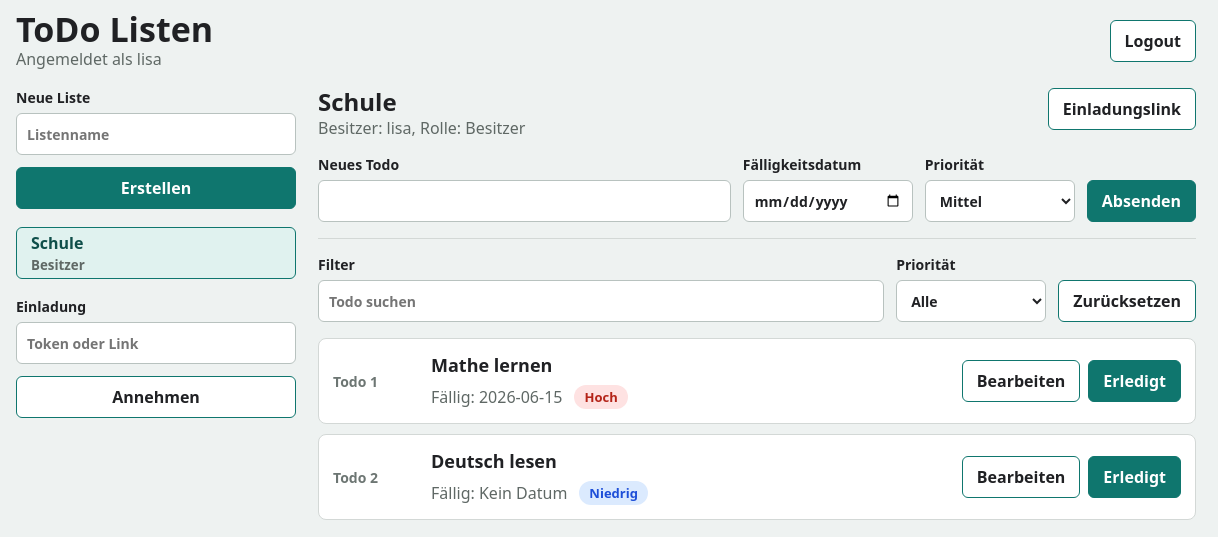
Test: App › filtert geladene Todos nach Priorität
Expected: the text "Mathe lernen" is shown, [431, 353, 552, 377]
Expected: the text "Deutsch lesen" is shown, [431, 449, 557, 473]
Select "Hoch" in the 2nd dropdown labelled "Priorität" at x=971, y=301, box [896, 280, 1046, 322]
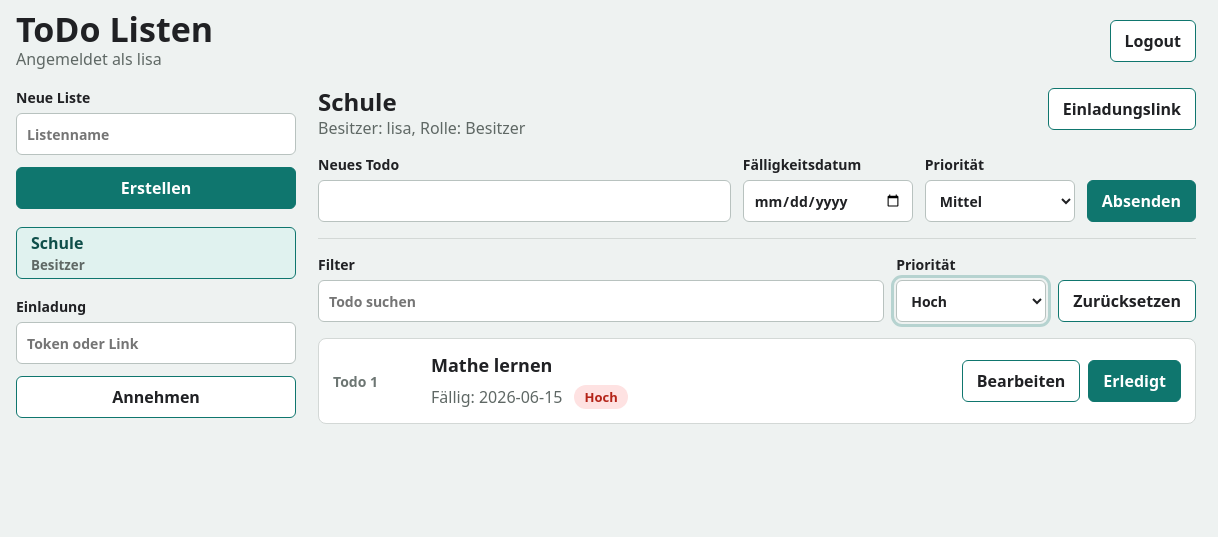
Expected: the text "Mathe lernen" is shown, [431, 353, 552, 377]
Now the text "Deutsch lesen" is gone
Click the button "Zurücksetzen" at x=1127, y=301, box [1058, 280, 1196, 322]
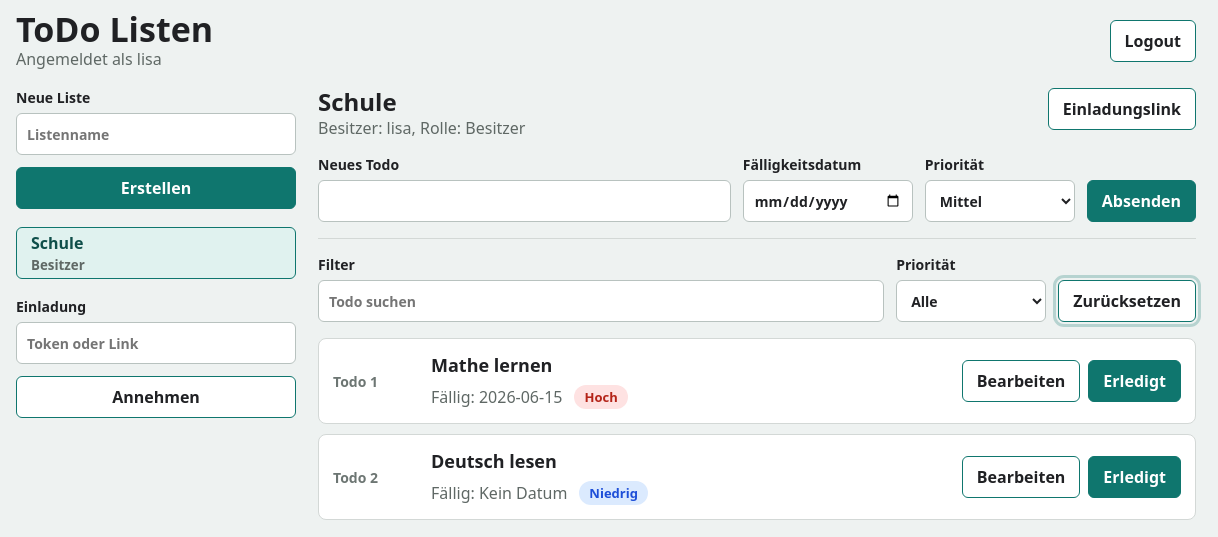
Now the text "Deutsch lesen" is shown, box [431, 449, 557, 473]
